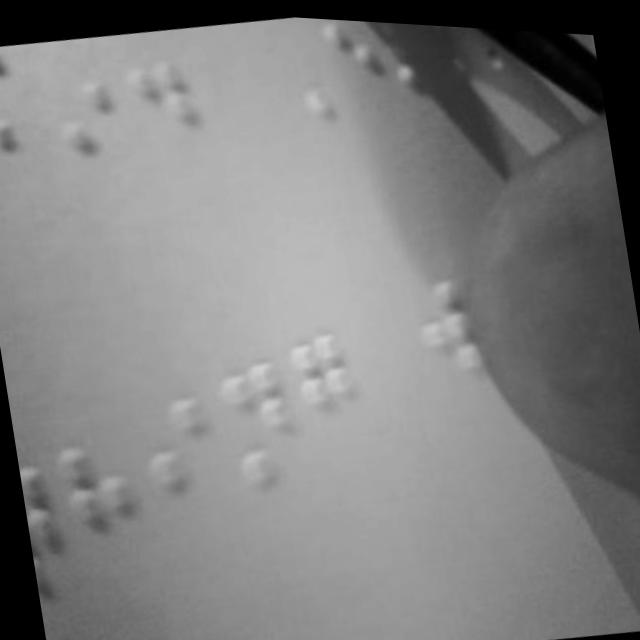braiile: (137, 389, 229, 546), (212, 344, 304, 501), (56, 428, 152, 578), (120, 45, 217, 193), (47, 70, 136, 216), (284, 319, 368, 466), (0, 96, 68, 226), (16, 441, 71, 592)
